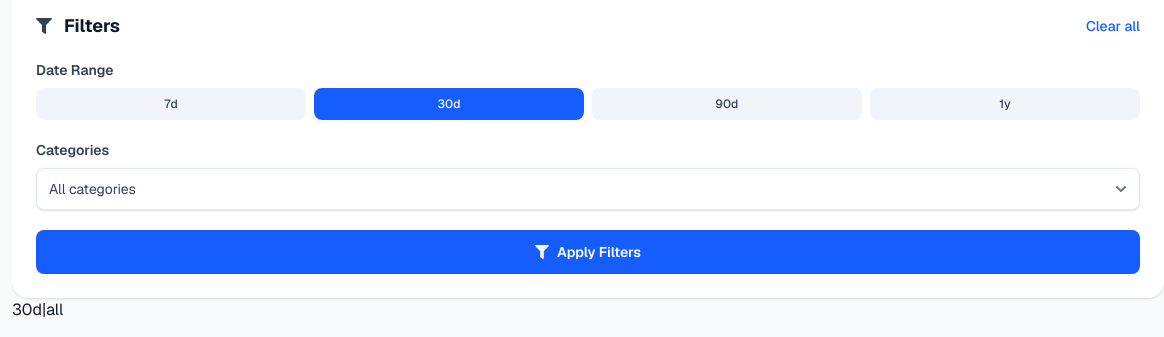
Test: FiltersPanel › resets applied filters when Clear all is pressed
The width and height of the screenshot is (1164, 337).
Click the radio button named "Last 90 days" at (727, 104), box [592, 88, 862, 120]
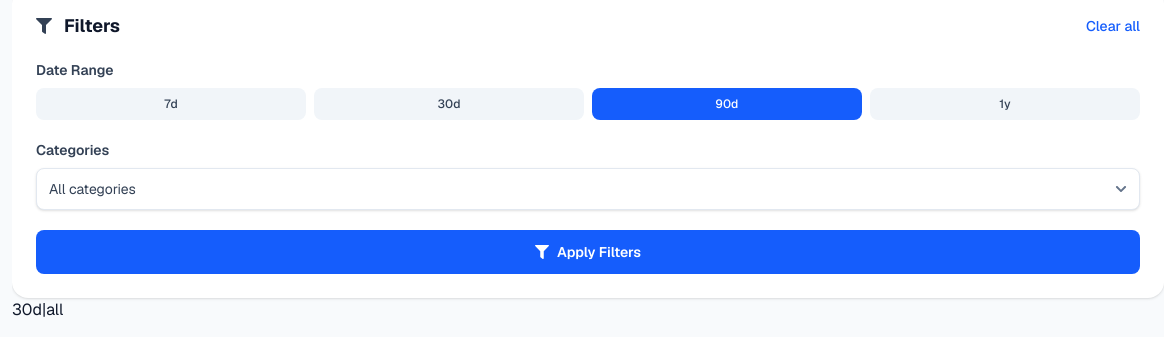
Click the button "Apply Filters" at (588, 252), box [36, 230, 1140, 274]
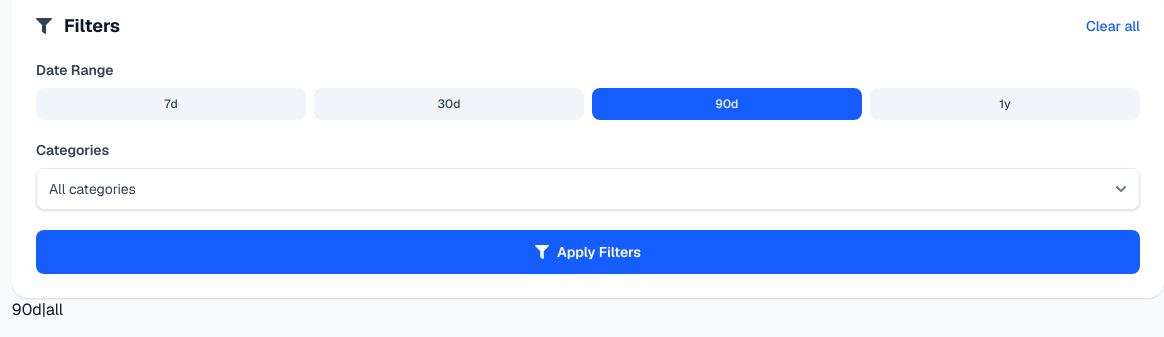
expect the text named "Applied filters" reads "90d|all": met, box [12, 299, 42, 320]
Click the button "Clear all" at (1113, 26), box [1086, 16, 1140, 36]
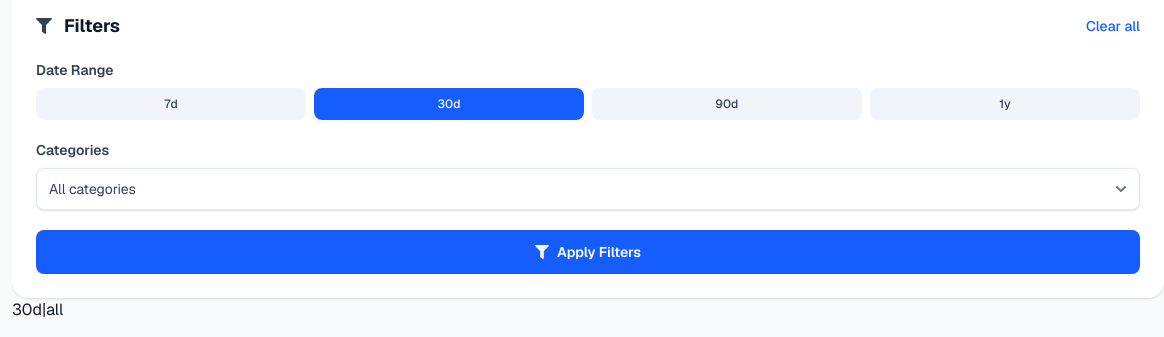
expect the text named "Applied filters" reads "30d|all": met, box [12, 299, 42, 320]
